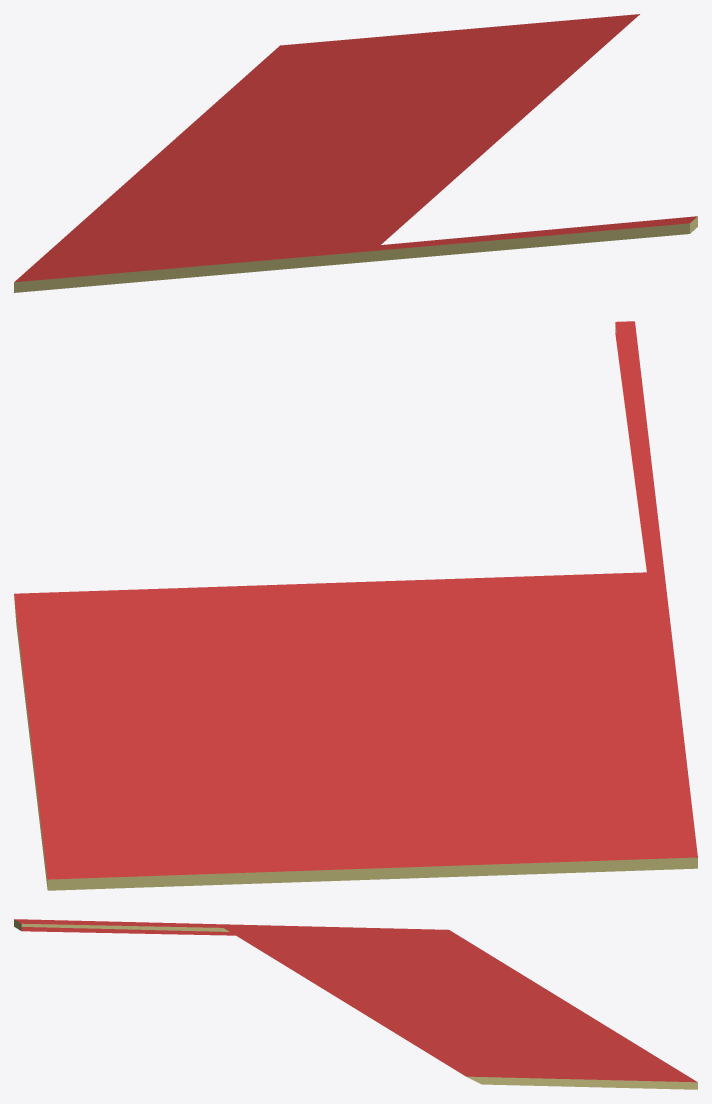
The picture shows the model from 3 angles, top to bottom: view 1: azimuth 30°, elevation 25°; view 2: azimuth 150°, elevation 25°; view 3: azimuth 270°, elevation 25°; orthographic projection. The views are drawn at different scales.
Size of the model in its own units: 6.26 by 8.23 by 1.93.
